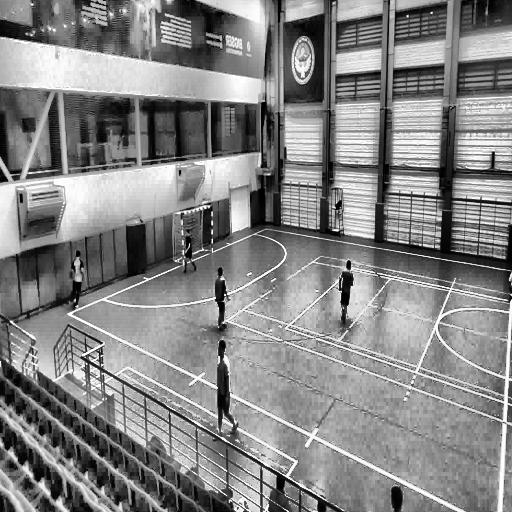ball: (71, 297, 77, 306)
player: (216, 338, 238, 435), (337, 259, 355, 325), (215, 266, 229, 330), (72, 249, 84, 307), (182, 230, 196, 272), (507, 244, 512, 302)
